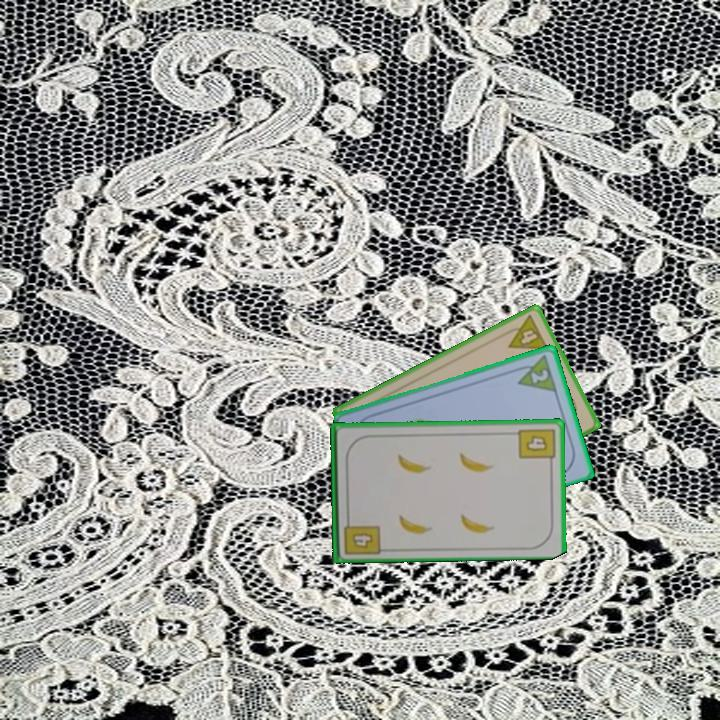2p: (511, 351, 560, 394)
4b: (340, 513, 382, 557), (515, 425, 557, 468)
4p: (499, 311, 551, 353)
